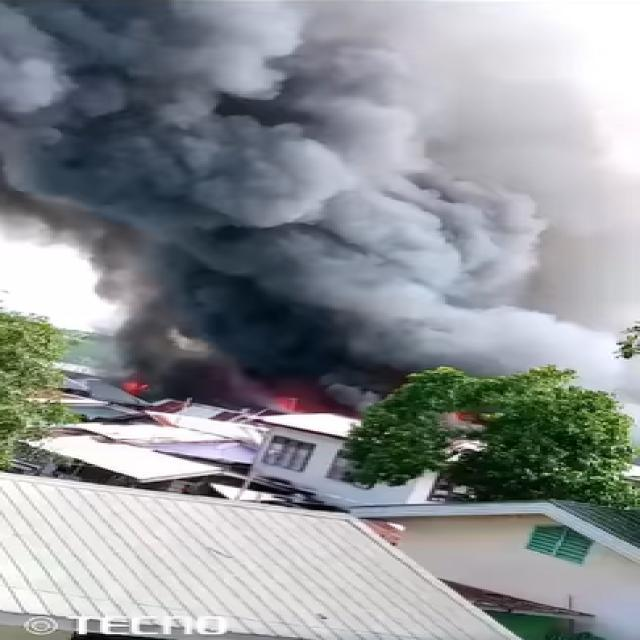Fire: (245, 384, 308, 410)
Smoke: (5, 6, 640, 355)
